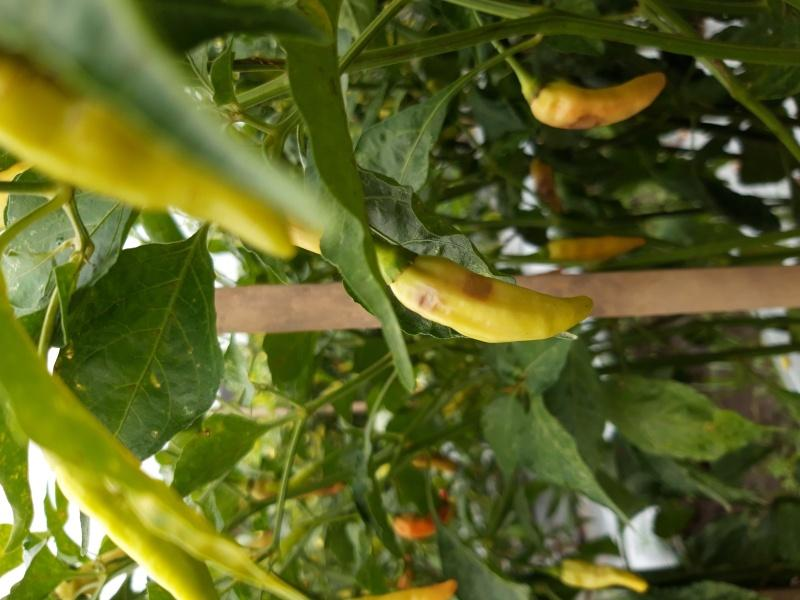antraknosa: (396, 252, 595, 344), (531, 71, 669, 129), (564, 558, 647, 593)
cabai_normal: (543, 234, 649, 260)
